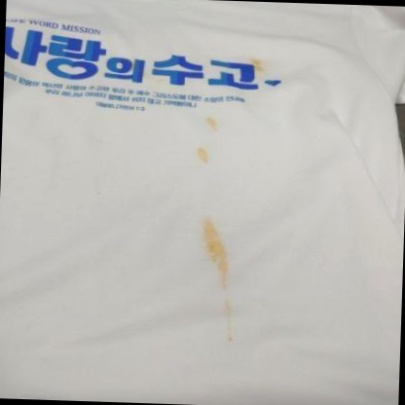kimchi: (199, 216, 237, 280), (225, 301, 235, 351), (207, 114, 221, 131), (252, 58, 267, 71), (224, 273, 233, 291), (193, 149, 205, 162), (155, 73, 163, 84), (145, 62, 153, 70), (144, 75, 148, 81)
